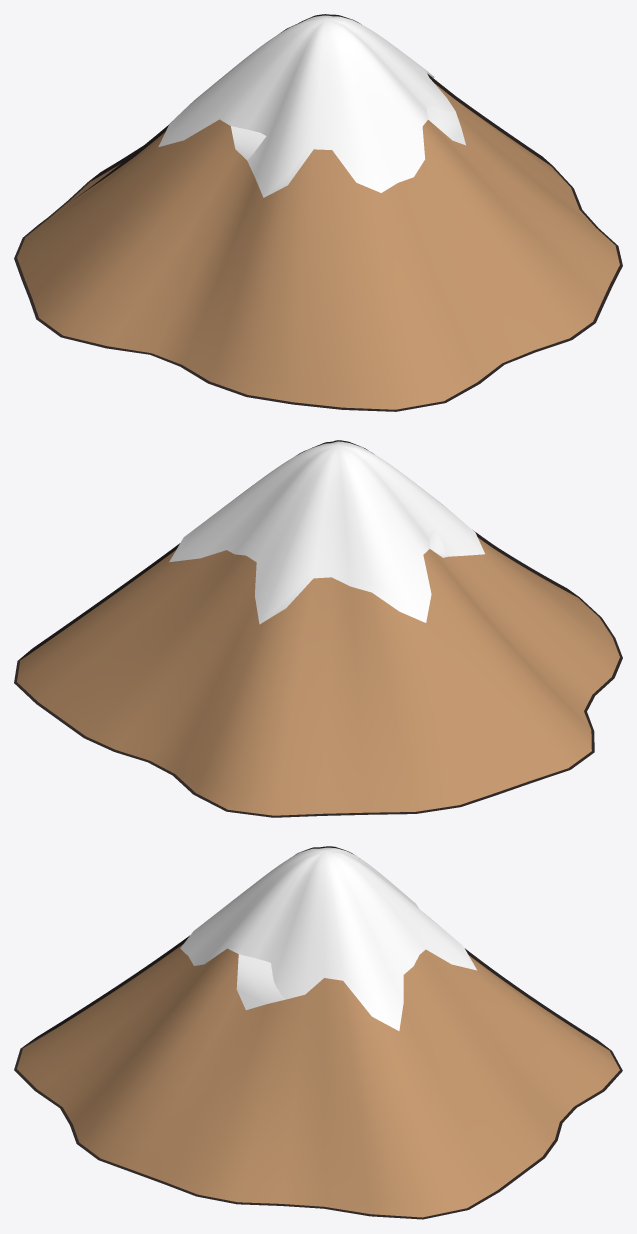
Rendered from BG_Mountain_A.fbx.
3 renders of one model, top to bottom at view 1: azimuth 30°, elevation 25°; view 2: azimuth 150°, elevation 25°; view 3: azimuth 270°, elevation 25°, orthographic. The views are drawn at different scales.
Visible parts, largest first — view 1: BG_Mountain_A_Mountain, BG_Mountain_A_Snow, BG_Mountain_A_Outline; view 2: BG_Mountain_A_Mountain, BG_Mountain_A_Snow, BG_Mountain_A_Outline; view 3: BG_Mountain_A_Mountain, BG_Mountain_A_Snow, BG_Mountain_A_Outline.
Part boxes in pixels (x1,y1,x2,y2): BG_Mountain_A_Mountain: (17, 83, 619, 409); BG_Mountain_A_Snow: (158, 15, 465, 197); BG_Mountain_A_Outline: (14, 14, 622, 411); BG_Mountain_A_Mountain: (17, 538, 619, 815); BG_Mountain_A_Snow: (169, 441, 484, 624); BG_Mountain_A_Outline: (14, 440, 622, 817); BG_Mountain_A_Mountain: (17, 944, 619, 1217); BG_Mountain_A_Snow: (180, 847, 477, 1030); BG_Mountain_A_Outline: (14, 846, 622, 1219).
Size of the model in its own units: 59.07 by 26.28 by 60.43.
